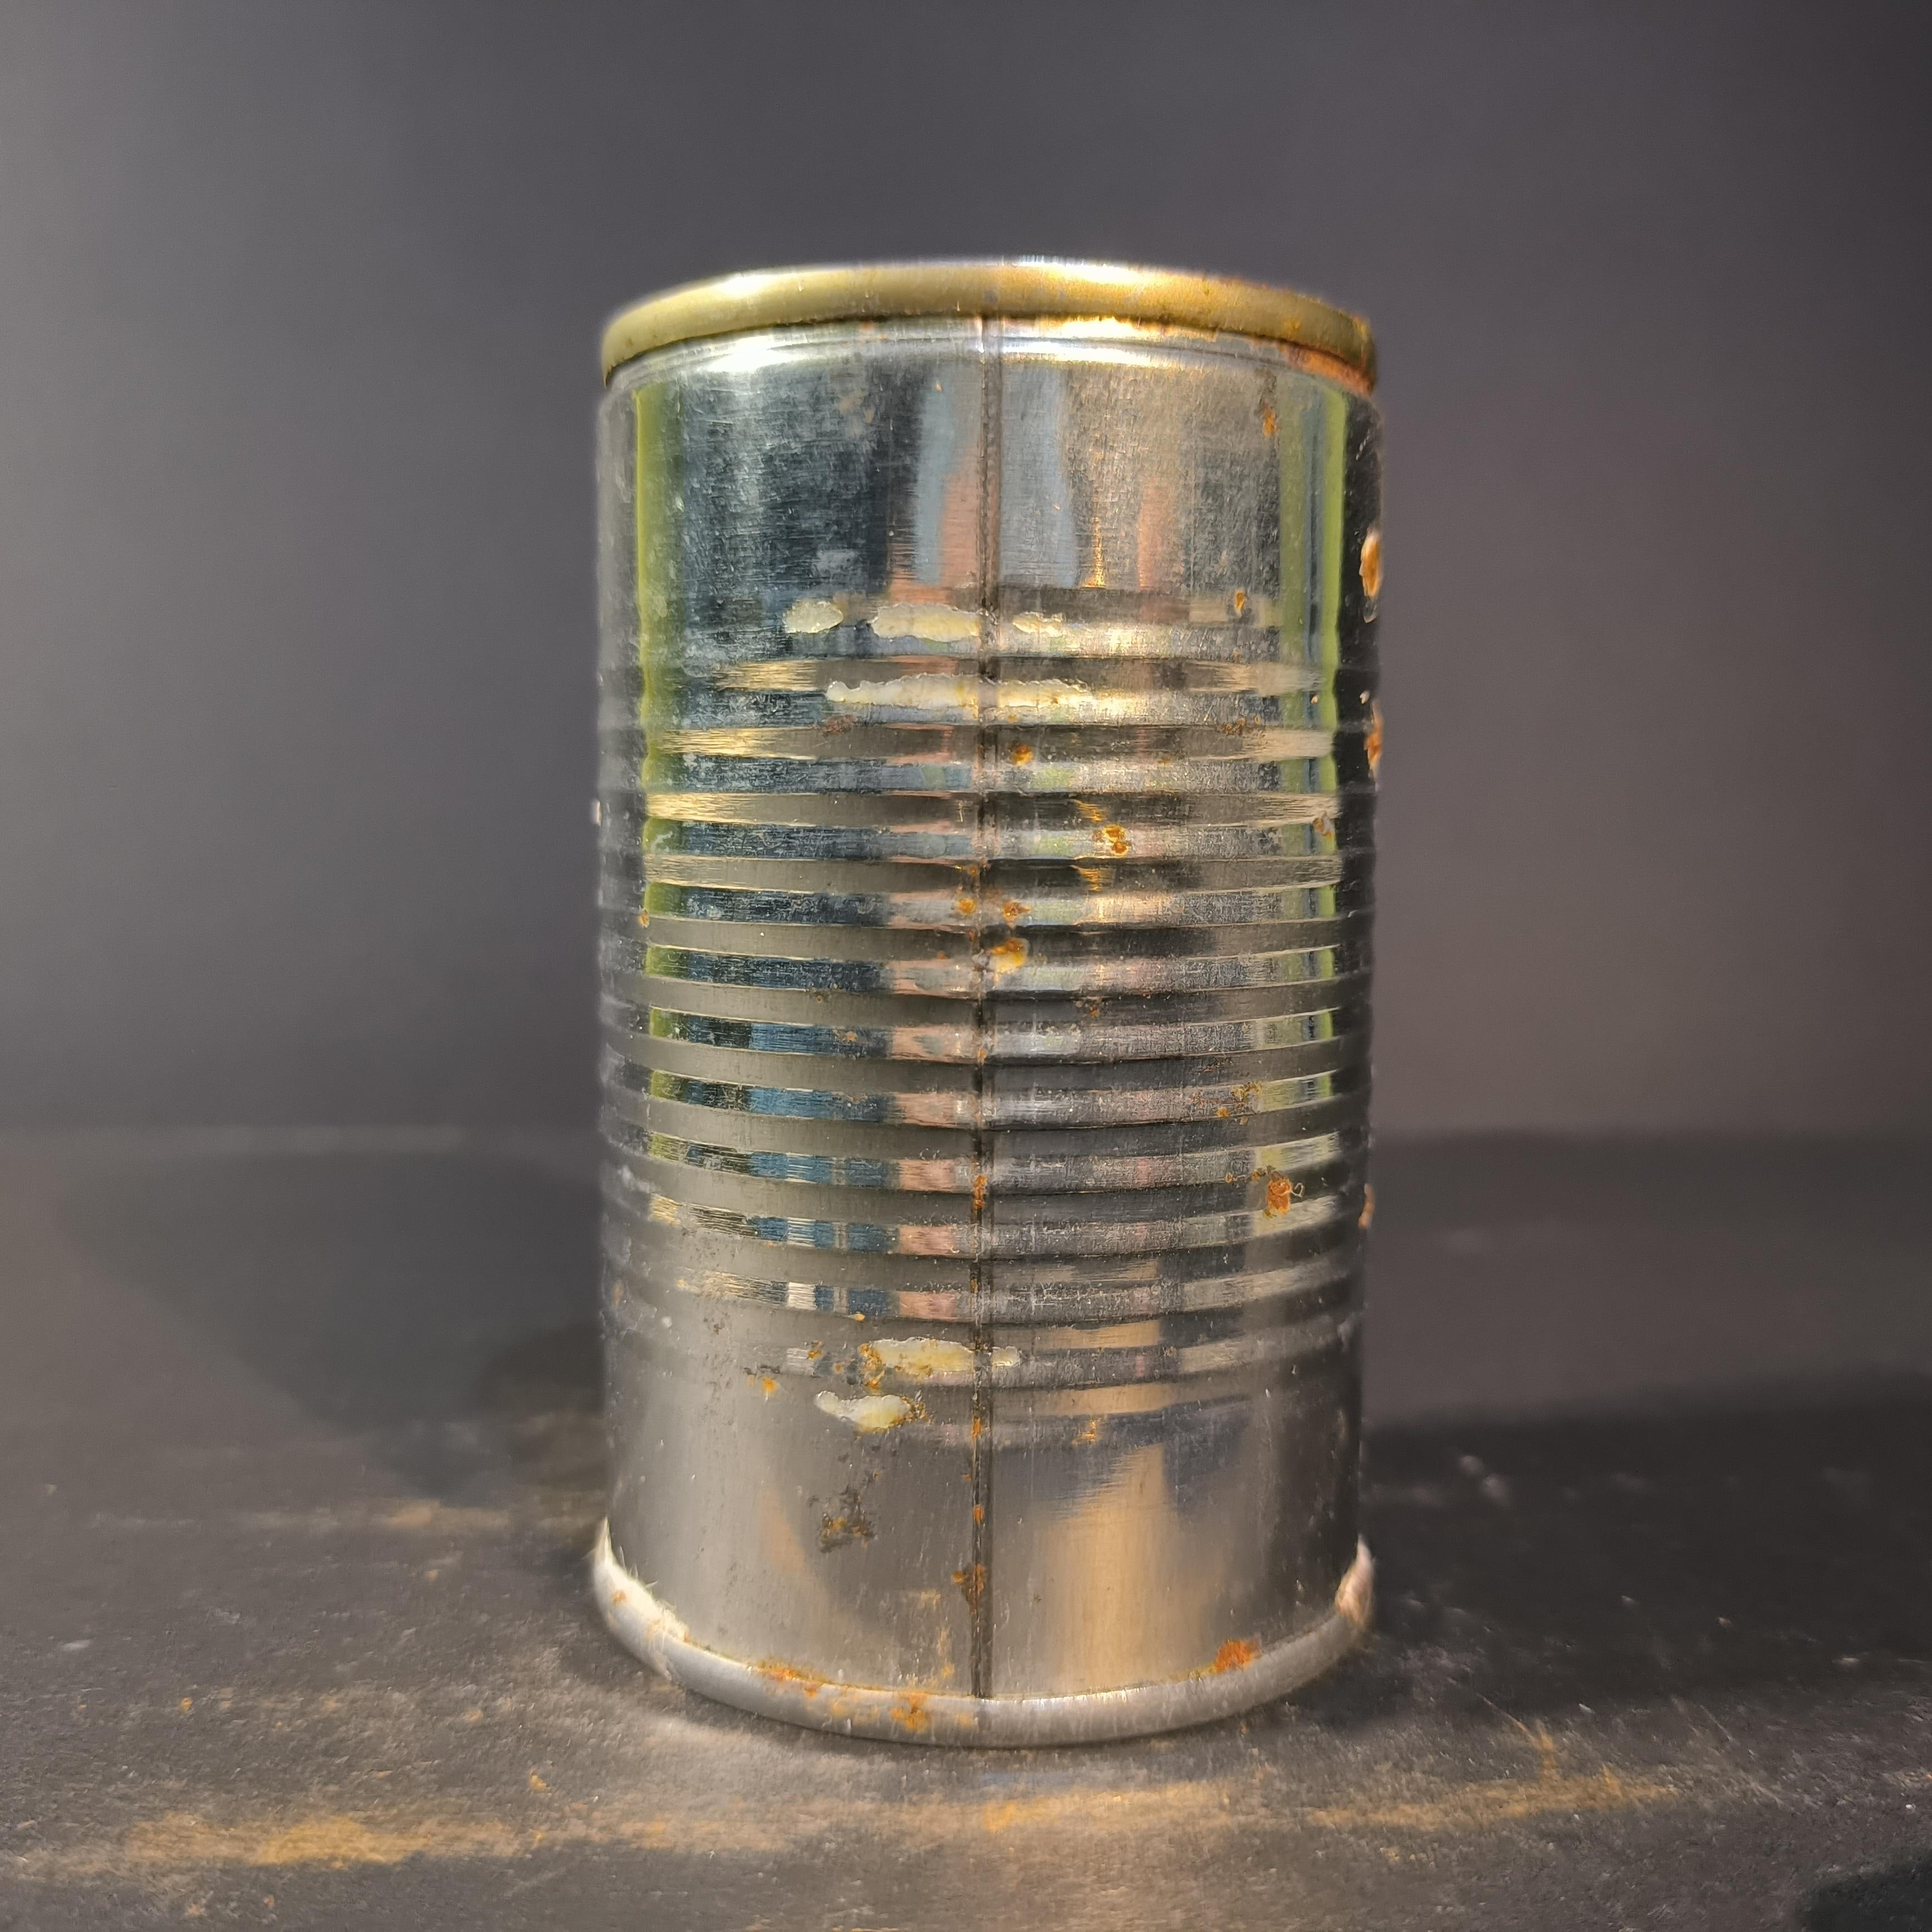Rusted: (564, 232, 1415, 1759)
